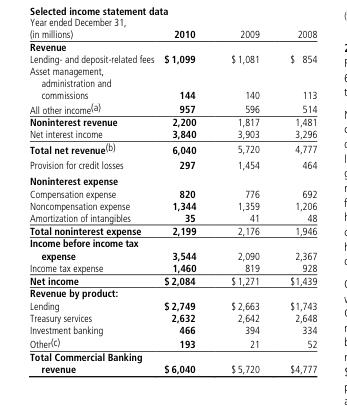table: (28, 29, 316, 374)
table column: (28, 29, 158, 374), (212, 29, 274, 374), (158, 29, 212, 374), (274, 29, 316, 374)
table column header: (28, 29, 316, 40)
table projected row header: (28, 173, 316, 187), (28, 40, 316, 53), (28, 287, 316, 299)
table row: (28, 65, 316, 101), (28, 237, 316, 261), (28, 350, 316, 374), (28, 140, 316, 157), (28, 157, 316, 173), (28, 335, 316, 350), (28, 101, 316, 115), (28, 173, 316, 187), (28, 40, 316, 53), (28, 115, 316, 128), (28, 211, 316, 224), (28, 224, 316, 237), (28, 261, 316, 274), (28, 274, 316, 287), (28, 53, 316, 65), (28, 128, 316, 140), (28, 187, 316, 199), (28, 199, 316, 211), (28, 287, 316, 299), (28, 299, 316, 311), (28, 311, 316, 323), (28, 323, 316, 335), (28, 29, 316, 40)
